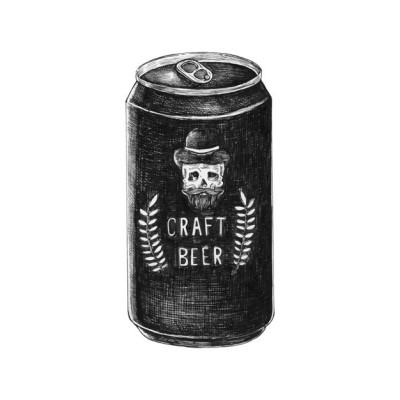beer: (121, 52, 278, 346)
